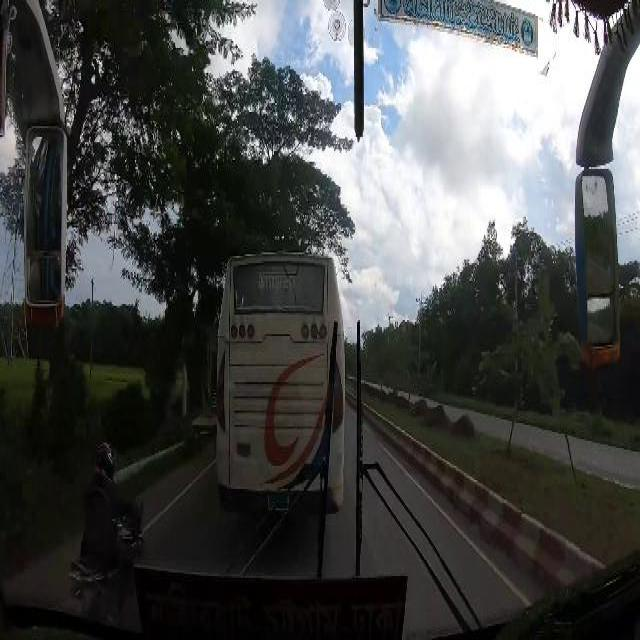bike: (68, 438, 145, 620)
vehicle: (220, 250, 346, 509)
